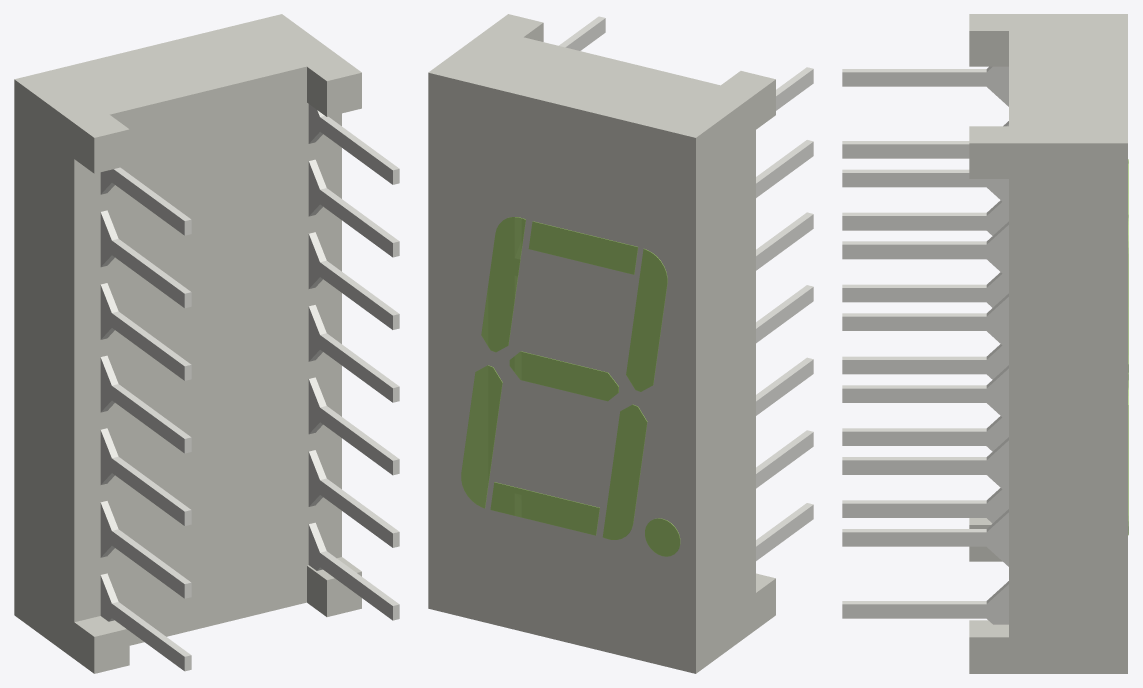
The model's file is MAN3410A.glb.
3 views of the same model, side by side, from view 1: azimuth 30°, elevation 25°; view 2: azimuth 150°, elevation 25°; view 3: azimuth 270°, elevation 25° (orthographic).
Parts seen in each view (by area): view 1: Shape_IndexedFaceSet.010, Shape_IndexedFaceSet.006, Shape_IndexedFaceSet, Shape_IndexedFaceSet.012, Shape_IndexedFaceSet.065, Shape_IndexedFaceSet.003, Shape_IndexedFaceSet.069, Shape_IndexedFaceSet.014, Shape_IndexedFaceSet.005, Shape_IndexedFaceSet.001, Shape_IndexedFaceSet.194, Shape_IndexedFaceSet.205 (+16 smaller); view 2: Shape_IndexedFaceSet.007, Shape_IndexedFaceSet.006, Shape_IndexedFaceSet, Shape_IndexedFaceSet.132, Shape_IndexedFaceSet.130, Shape_IndexedFaceSet.134, Shape_IndexedFaceSet.128, Shape_IndexedFaceSet.131, Shape_IndexedFaceSet.135, Shape_IndexedFaceSet.133, Shape_IndexedFaceSet.129, Shape_IndexedFaceSet.201 (+6 smaller); view 3: Shape_IndexedFaceSet.008, Shape_IndexedFaceSet, Shape_IndexedFaceSet.243, Shape_IndexedFaceSet.240, Shape_IndexedFaceSet.196, Shape_IndexedFaceSet.215, Shape_IndexedFaceSet.227, Shape_IndexedFaceSet.199, Shape_IndexedFaceSet.203, Shape_IndexedFaceSet.211, Shape_IndexedFaceSet.231, Shape_IndexedFaceSet.191 (+21 smaller).
Boxes of the visible parts, x1,y1,x2,y2 form: Shape_IndexedFaceSet.010: (109,102,306,608); Shape_IndexedFaceSet.006: (14,79,94,673); Shape_IndexedFaceSet: (15,14,361,137); Shape_IndexedFaceSet.012: (74,159,109,622); Shape_IndexedFaceSet.065: (307,103,341,565); Shape_IndexedFaceSet.003: (110,66,306,145); Shape_IndexedFaceSet.069: (129,565,306,645); Shape_IndexedFaceSet.014: (94,629,129,673); Shape_IndexedFaceSet.005: (94,129,129,173); Shape_IndexedFaceSet.001: (327,72,361,116); Shape_IndexedFaceSet.194: (112,604,184,670); Shape_IndexedFaceSet.205: (112,241,184,307); Shape_IndexedFaceSet.007: (428,72,695,673); Shape_IndexedFaceSet.006: (696,79,775,673); Shape_IndexedFaceSet: (428,14,775,137); Shape_IndexedFaceSet.132: (626,249,667,391); Shape_IndexedFaceSet.130: (481,217,525,352); Shape_IndexedFaceSet.134: (461,365,502,508); Shape_IndexedFaceSet.128: (602,404,646,539); Shape_IndexedFaceSet.131: (528,221,637,274); Shape_IndexedFaceSet.135: (490,482,599,535); Shape_IndexedFaceSet.133: (509,351,618,401); Shape_IndexedFaceSet.129: (645,518,679,556); Shape_IndexedFaceSet.201: (756,287,813,343); Shape_IndexedFaceSet.008: (969,143,1127,673); Shape_IndexedFaceSet: (969,14,1127,143); Shape_IndexedFaceSet.243: (842,244,986,259); Shape_IndexedFaceSet.240: (842,316,986,330); Shape_IndexedFaceSet.196: (842,503,985,517); Shape_IndexedFaceSet.215: (842,431,986,445); Shape_IndexedFaceSet.227: (842,388,985,402); Shape_IndexedFaceSet.199: (842,360,985,374); Shape_IndexedFaceSet.203: (842,288,986,302); Shape_IndexedFaceSet.211: (842,216,986,230); Shape_IndexedFaceSet.231: (842,460,986,474); Shape_IndexedFaceSet.191: (842,72,986,86).
Bounding box in the file's own units: 3.86 × 7.38 × 3.61.
